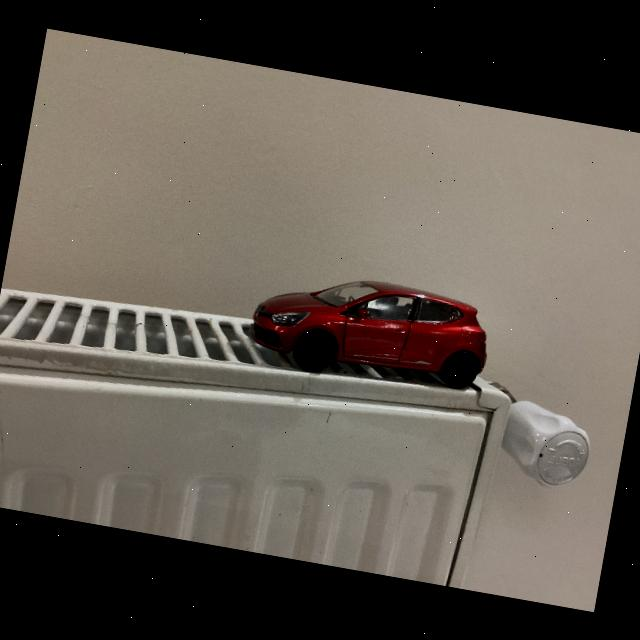Dogru_Jant: (294, 330, 335, 373), (442, 351, 478, 389)
